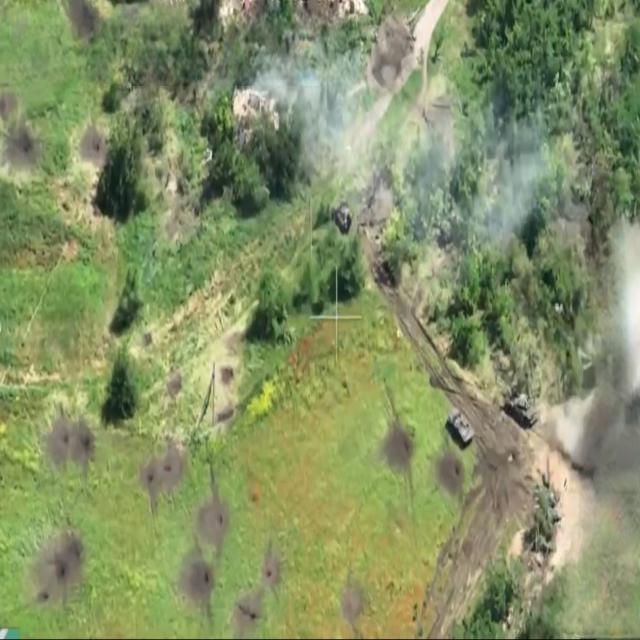AIFV: (446, 406, 478, 451)
Destroyed: (332, 200, 353, 234)
MBT: (502, 375, 541, 432)
